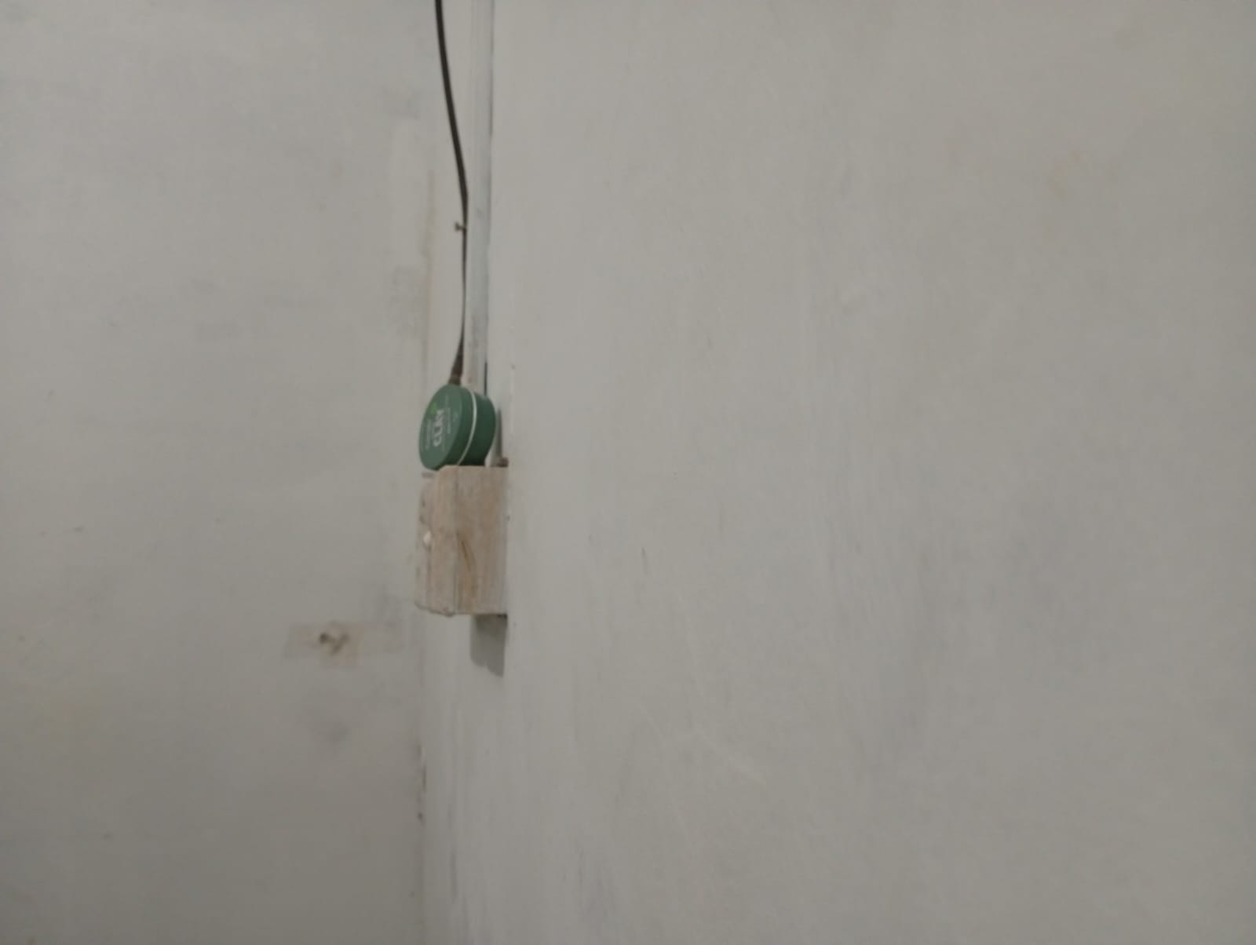Minyak_Rambut: (375, 358, 535, 481)
